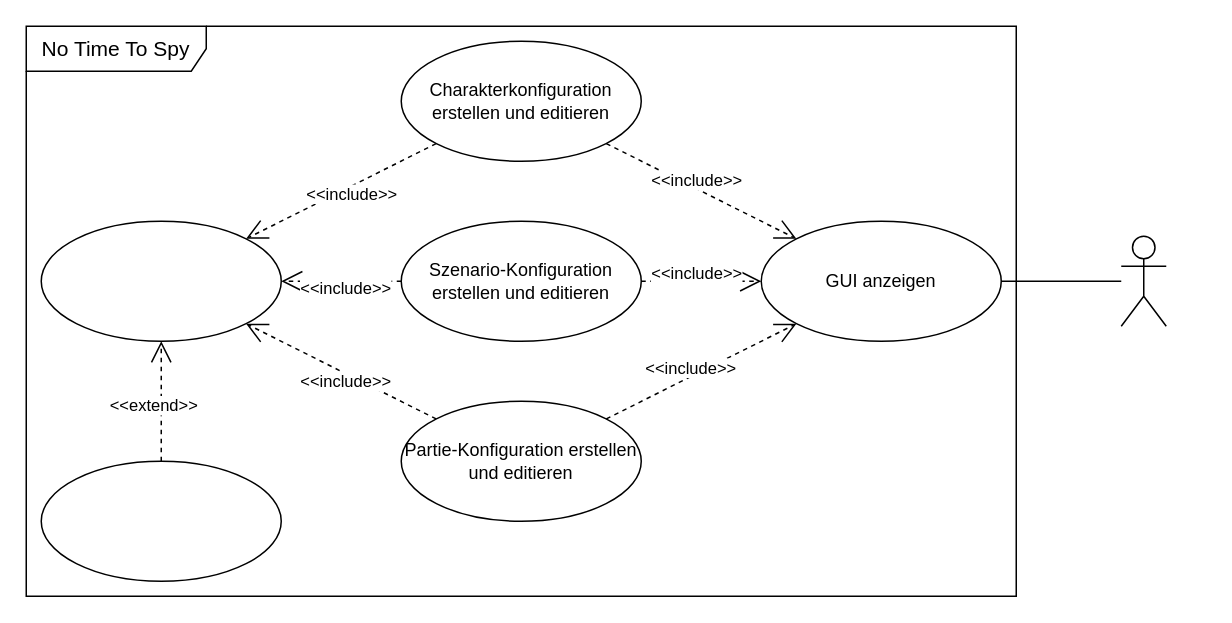
Image size: 1232x623. Some labels were removed from this diagram. The centre of each missing label's shape, as x and y in pixels:
"Benutzer-Client" belongs at pixel 1143 280.
"JSON-Datei bearbeiten" belongs at pixel 160 520.
"JSON-Datei speichern" belongs at pixel 160 280.
